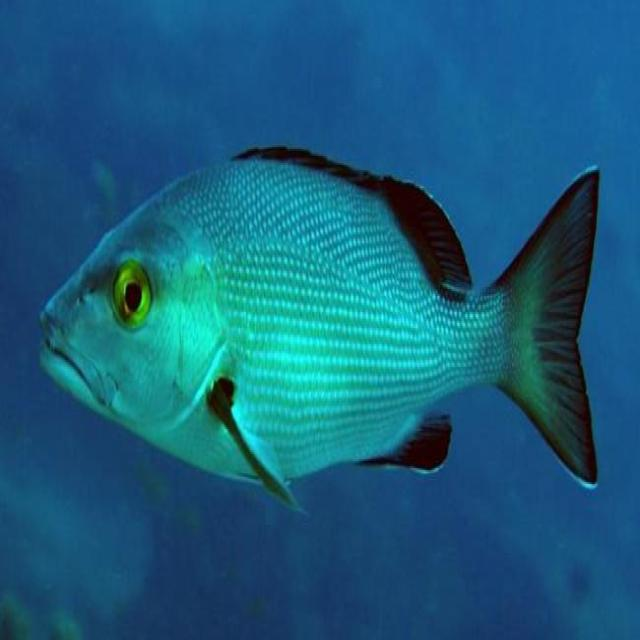ikan: (38, 140, 600, 514)
